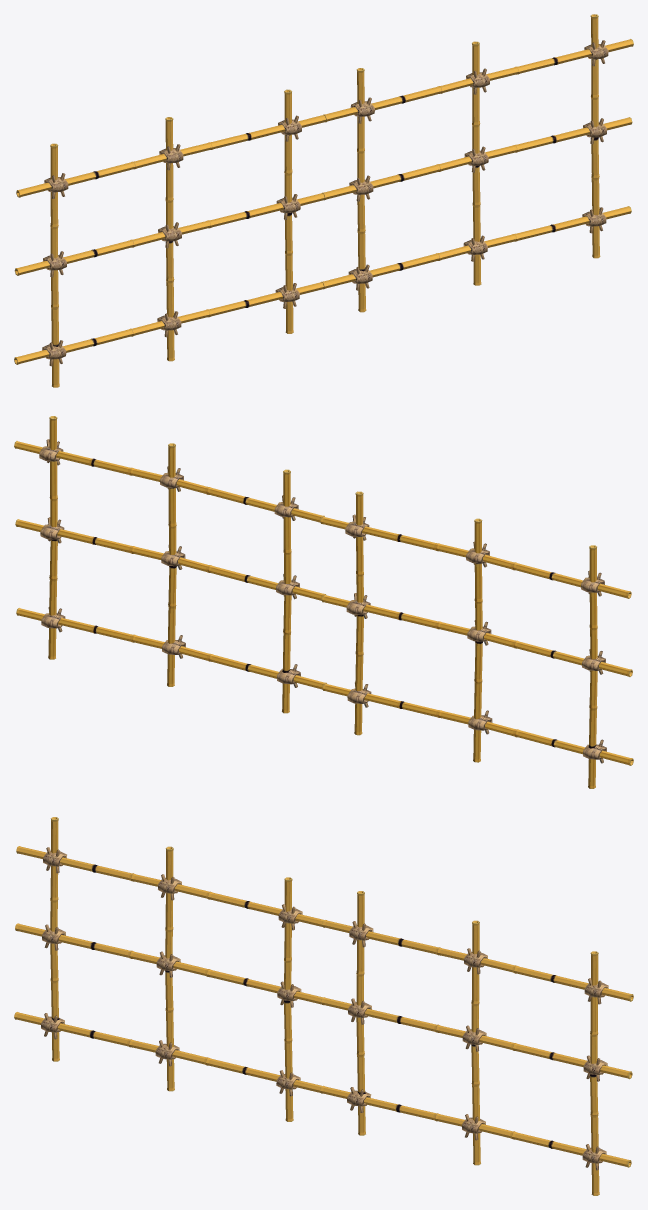
Rendered from bamboo-fence.fbx.
3 renders of one model, top to bottom at view 1: azimuth 30°, elevation 25°; view 2: azimuth 150°, elevation 25°; view 3: azimuth 330°, elevation 25°, orthographic.
Parts seen in each view (by area): view 1: bamboo-fence; view 2: bamboo-fence; view 3: bamboo-fence.
Part boxes in pixels (x1,y1,x2,y2): bamboo-fence: [14, 14, 633, 387]; bamboo-fence: [14, 416, 633, 788]; bamboo-fence: [14, 817, 633, 1195].
Bounding box in the file's own units: 357 × 136 × 12.21.
